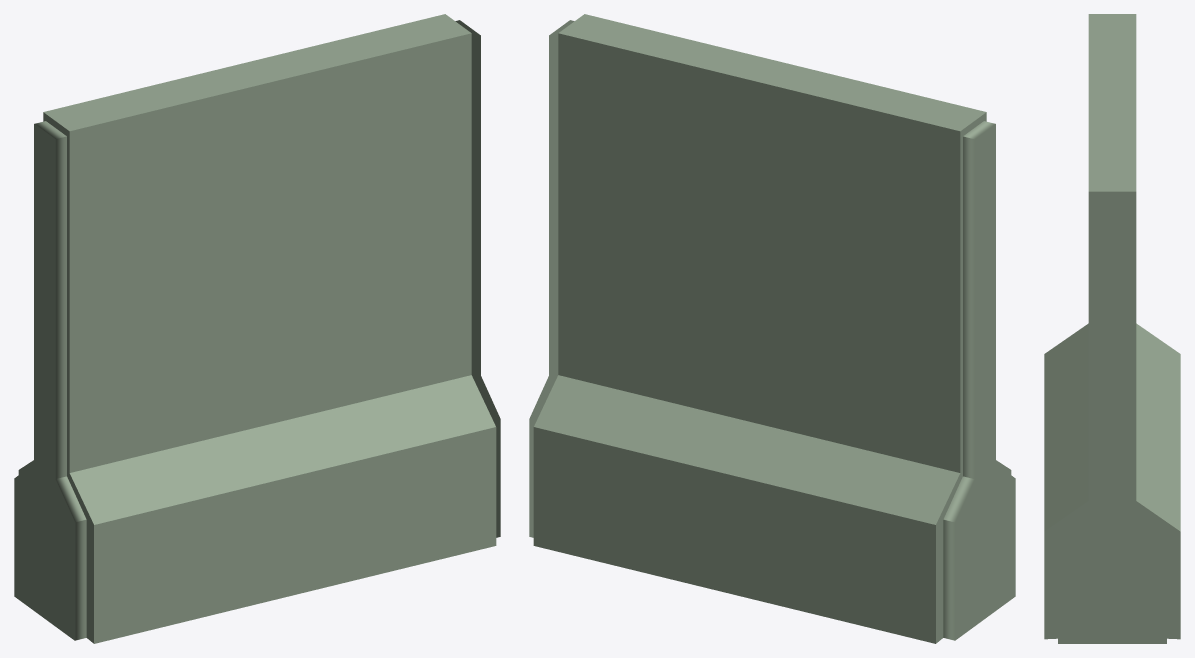
The model's file is wall_01.fbx.
3 renders of one model, left to right at view 1: azimuth 30°, elevation 25°; view 2: azimuth 150°, elevation 25°; view 3: azimuth 270°, elevation 25°, orthographic. The views are drawn at different scales.
Parts seen in each view (by area): view 1: wall_01; view 2: wall_01; view 3: wall_01.
Part boxes in pixels (<box>): wall_01: <box>14,14,500,643</box>; wall_01: <box>529,14,1015,643</box>; wall_01: <box>1044,14,1180,643</box>.
Size of the model in its own units: 5 by 5.55 by 1.53.
